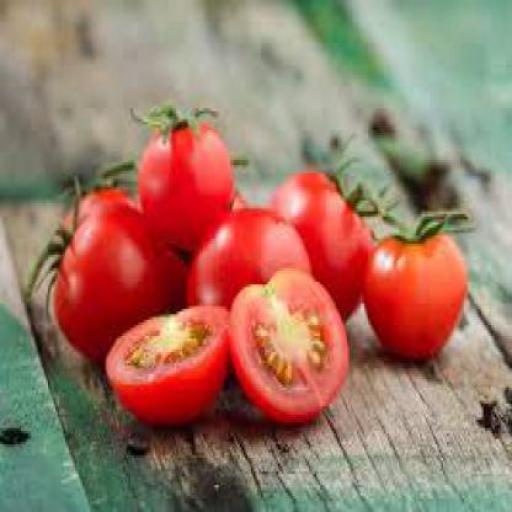biodegradable: (21, 160, 186, 363), (270, 149, 397, 320), (226, 260, 345, 426), (362, 203, 464, 363), (102, 301, 230, 428), (129, 98, 232, 247), (182, 206, 310, 315)
